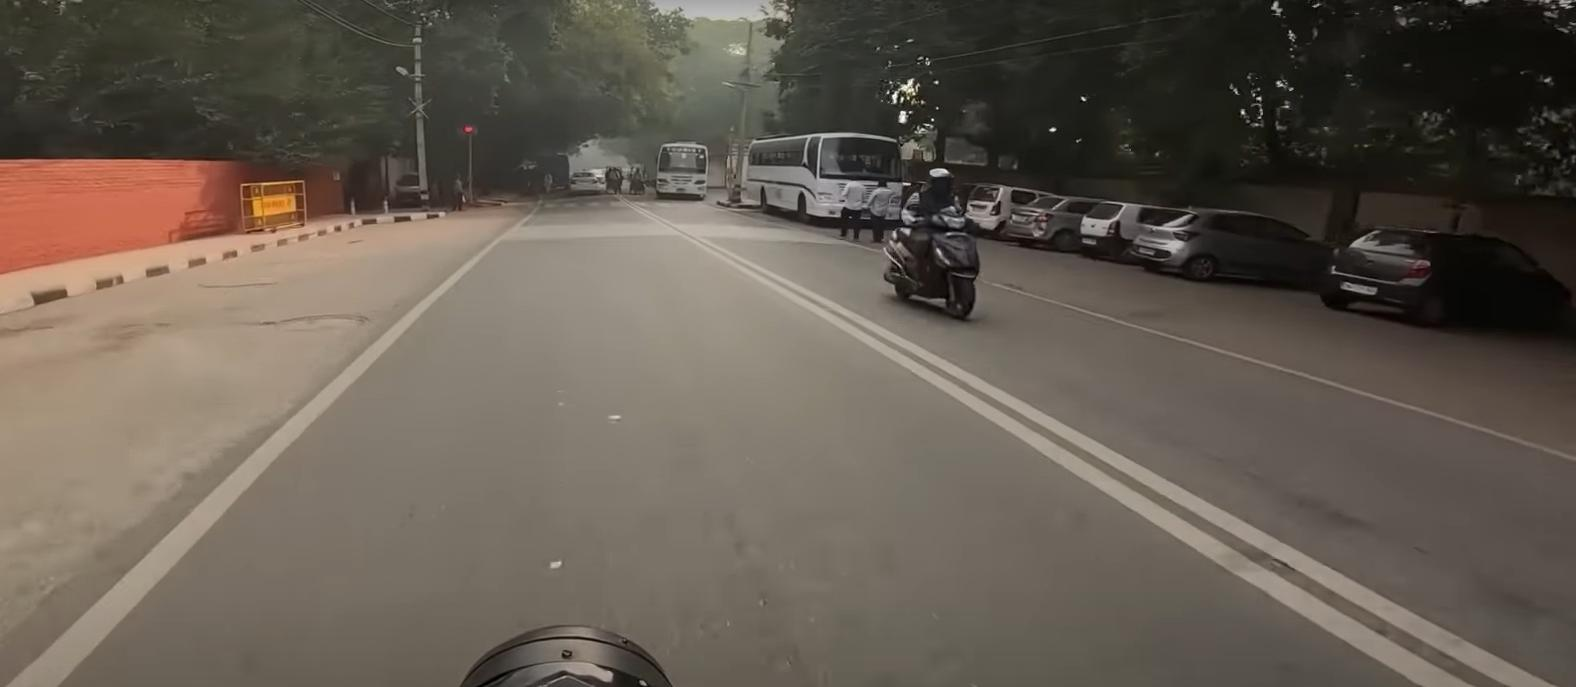front: (933, 211, 976, 320)
